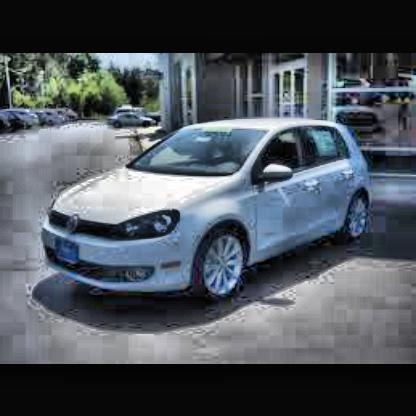Volkswagen Golf Hatchback 2012: (42, 120, 376, 306)
